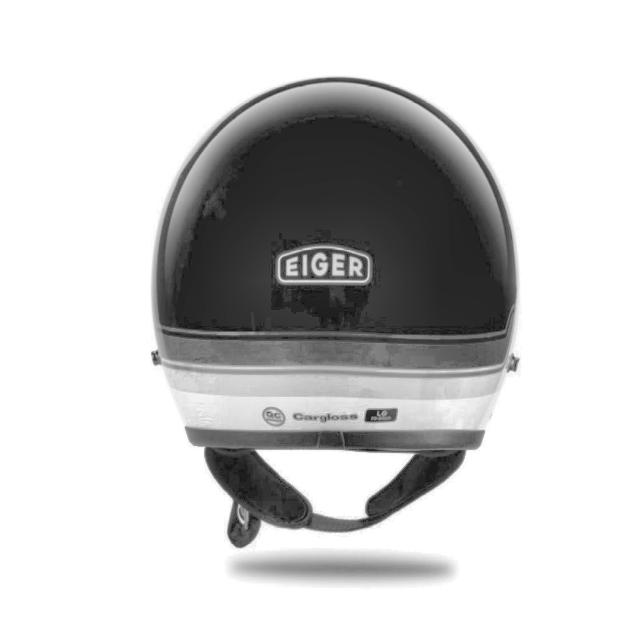Helmet: (147, 79, 522, 554)
